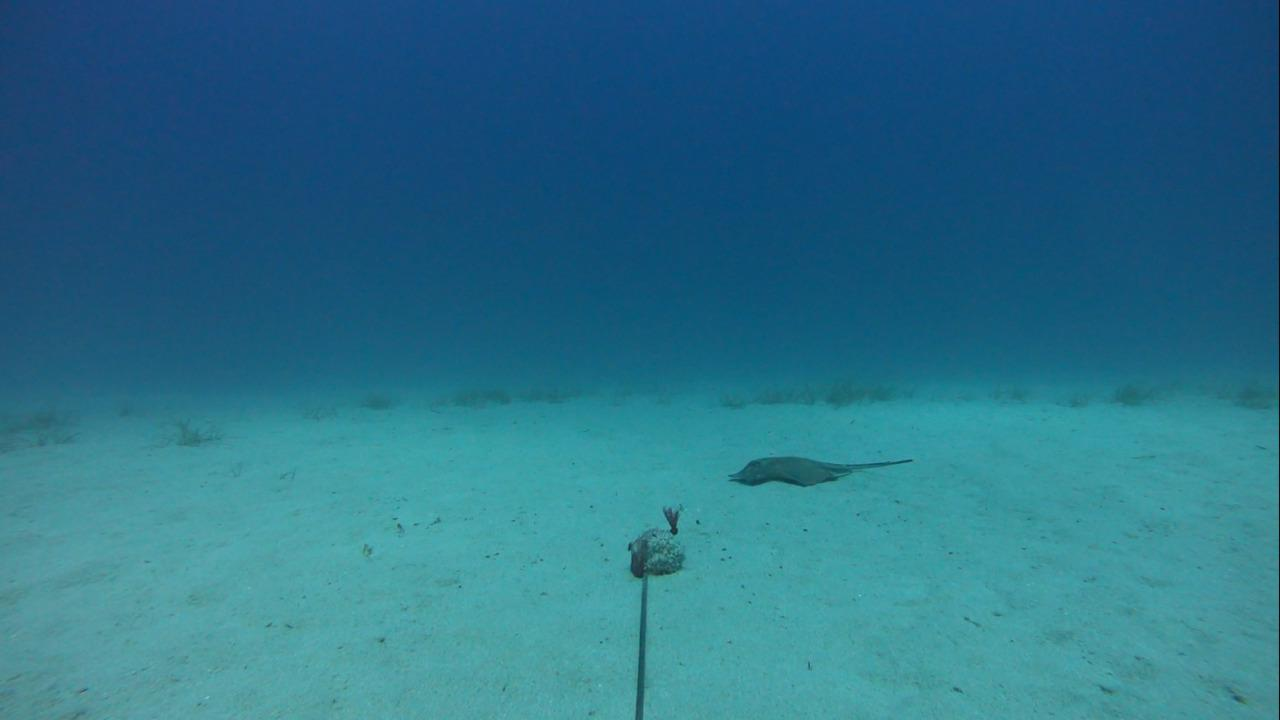myliobatis: (721, 445, 914, 497)
